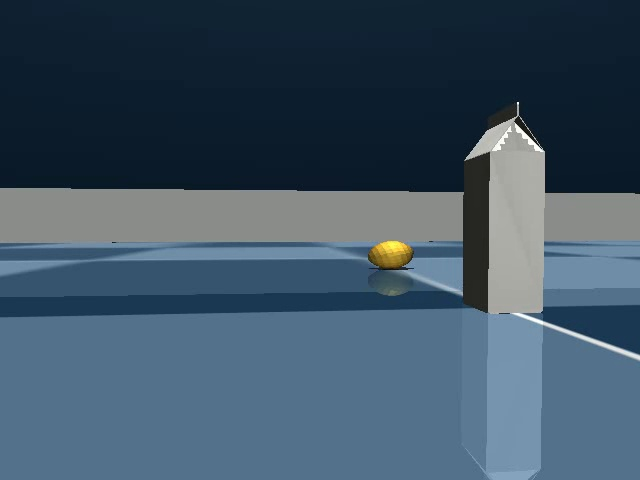lemon: (363, 234, 421, 275)
milk: (458, 93, 551, 322)
